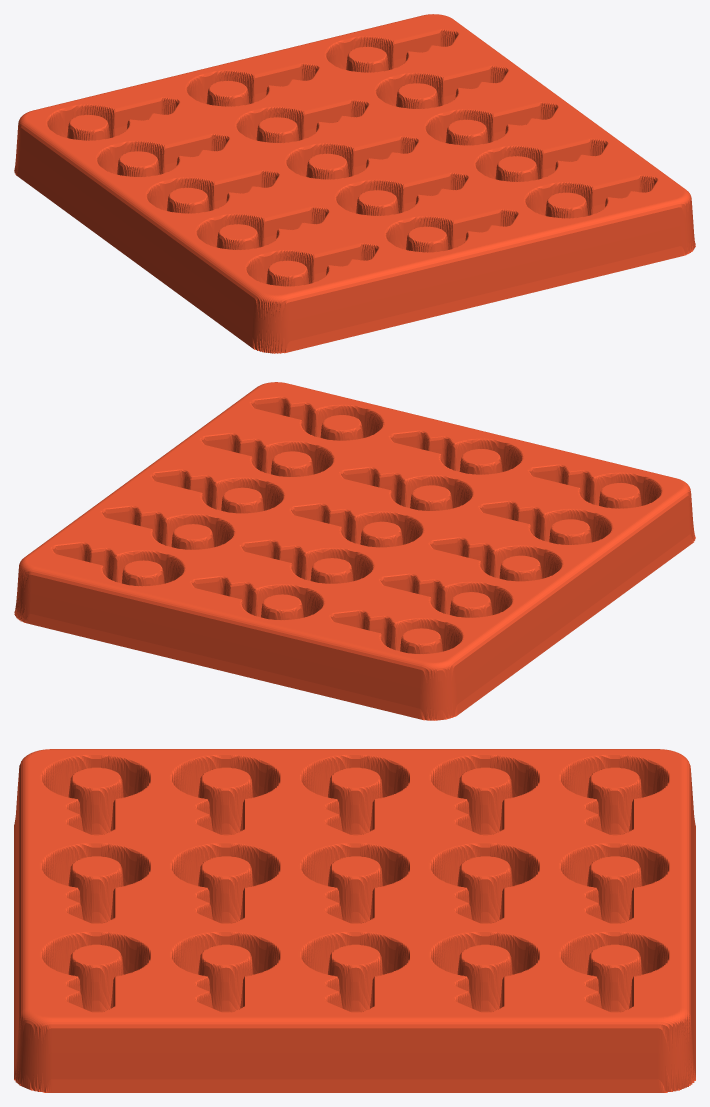
The model's file is mold.glb.
3 renders of one model, top to bottom at view 1: azimuth 30°, elevation 25°; view 2: azimuth 150°, elevation 25°; view 3: azimuth 270°, elevation 25°, orthographic. The views are drawn at different scales.
Visible parts, largest first — view 1: geometry_0; view 2: geometry_0; view 3: geometry_0.
Part boxes in pixels (box(x1,y1,x2,y2)): geometry_0: box(14, 14, 695, 353); geometry_0: box(14, 382, 695, 720); geometry_0: box(14, 749, 695, 1092).
Size of the model in its own units: 0.1602 by 0.0185 by 0.1649.
